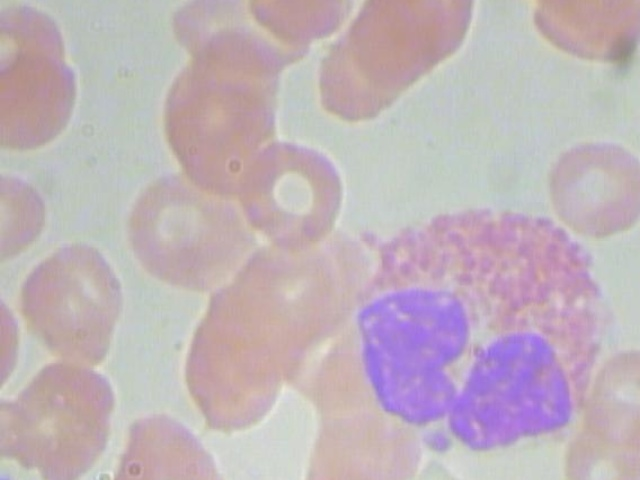RBC: (0, 351, 132, 480), (2, 353, 135, 480), (121, 166, 254, 289), (232, 140, 355, 249), (12, 239, 136, 347), (534, 136, 640, 244), (553, 396, 640, 480), (579, 340, 640, 449)
WBC: (347, 199, 621, 459)
